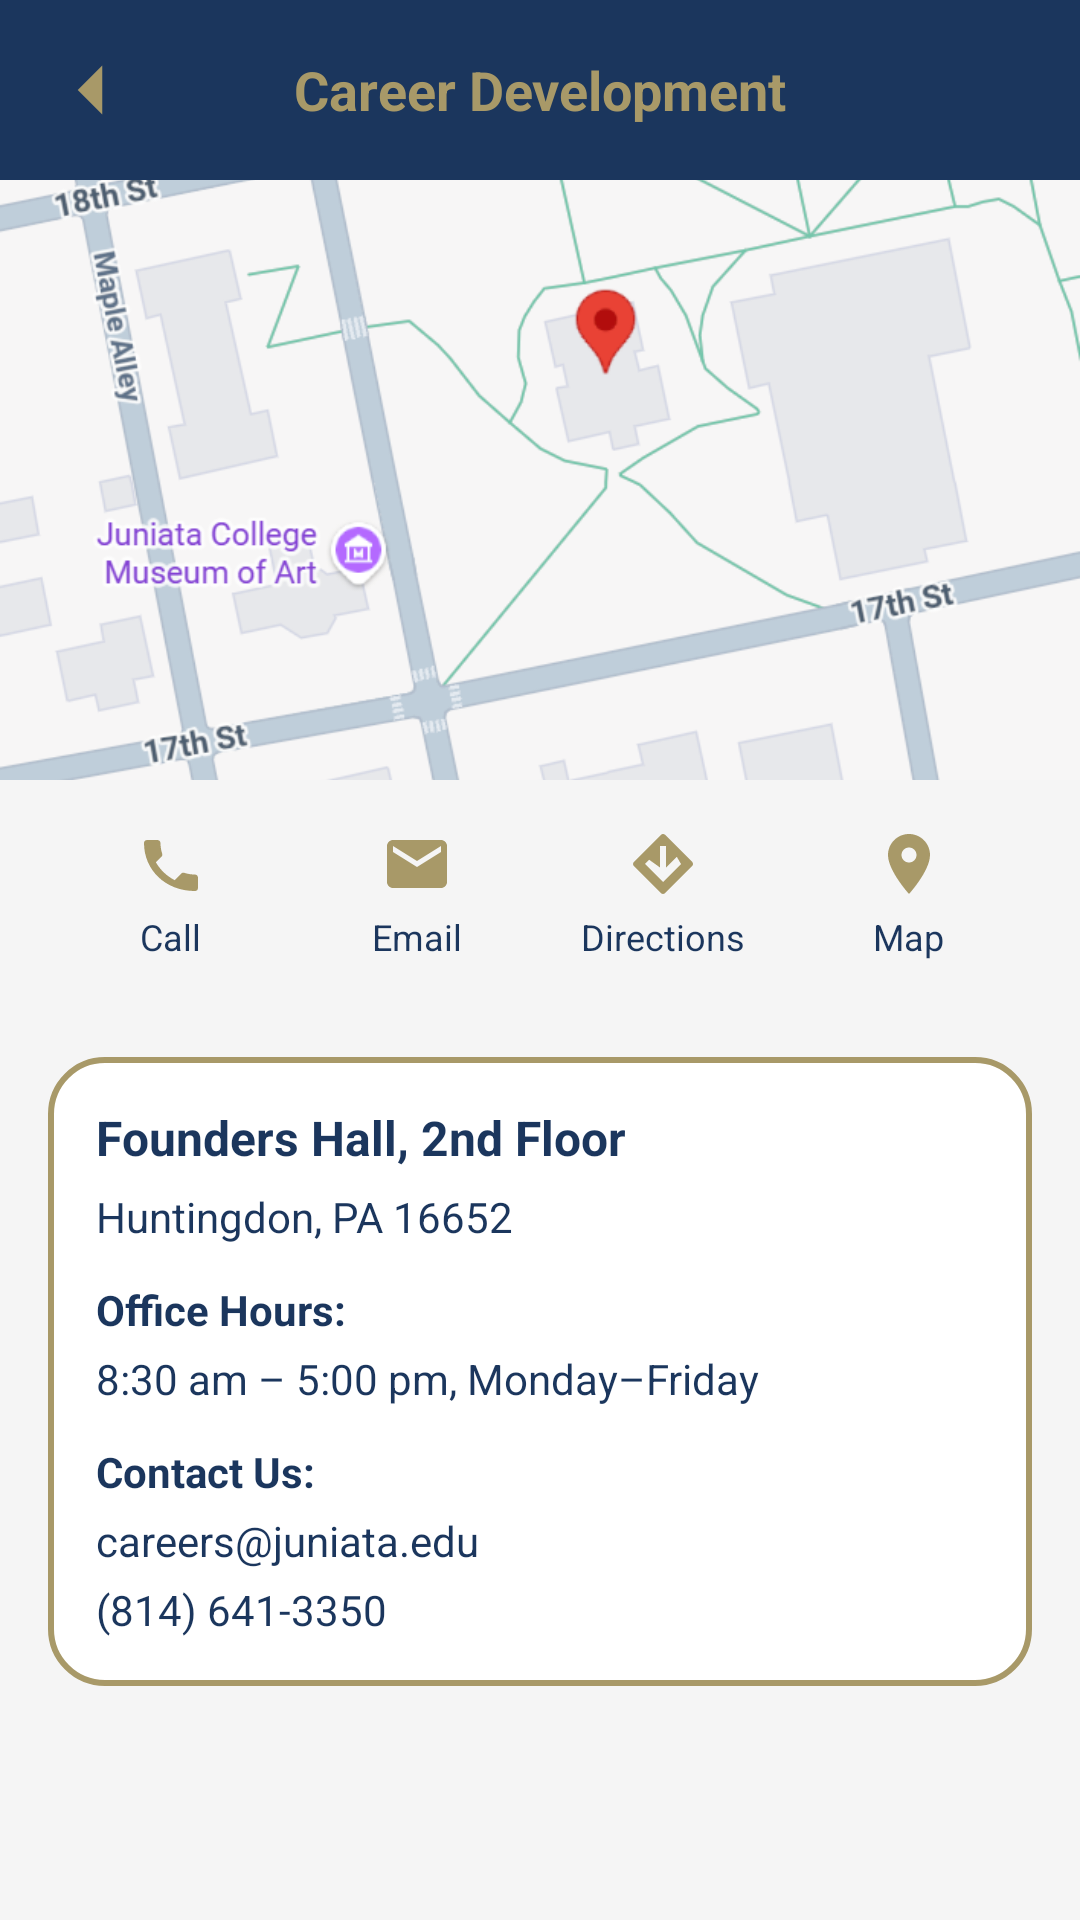

Locate icon controls on the screen. Image size 1080*1920, boxes as (x1, y1, x2, y2).
back: (78, 66, 103, 114)
location: (888, 834, 930, 894)
